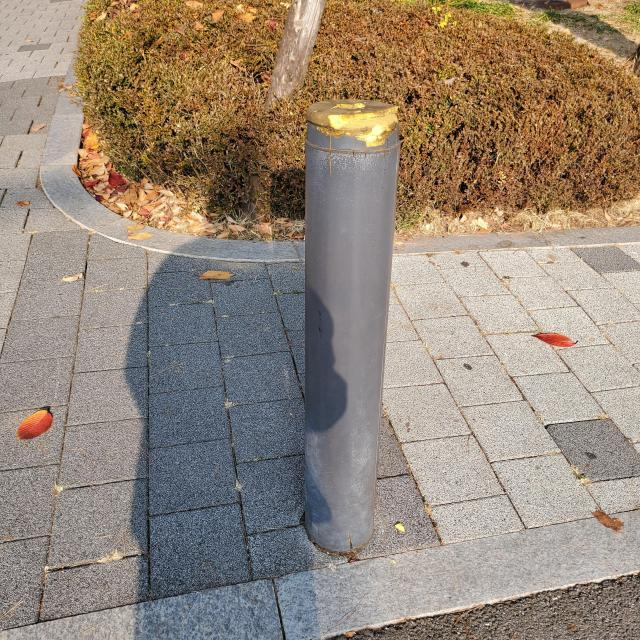pole: (298, 91, 401, 558)
